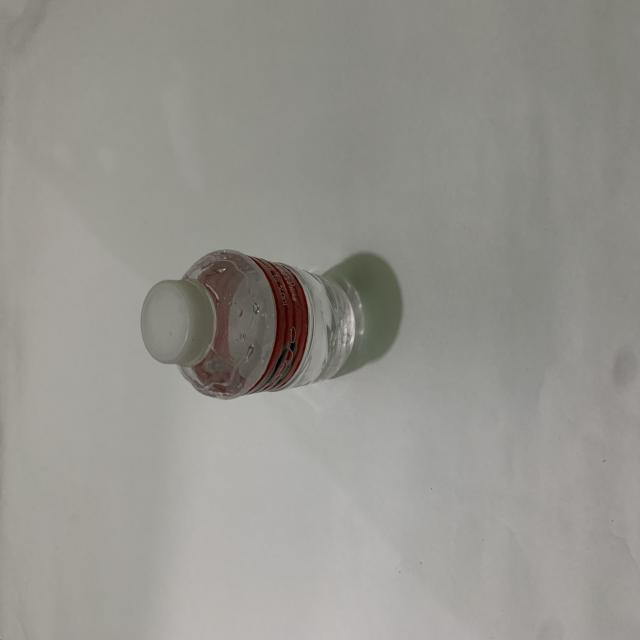bottle: (132, 244, 398, 406)
